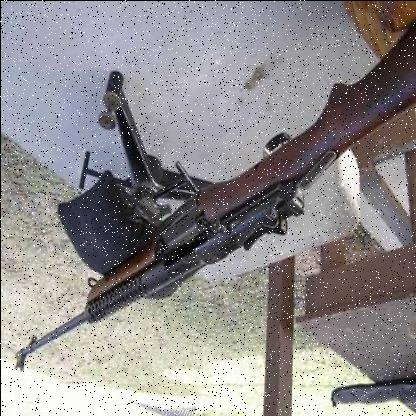rifle: (7, 10, 416, 393)
